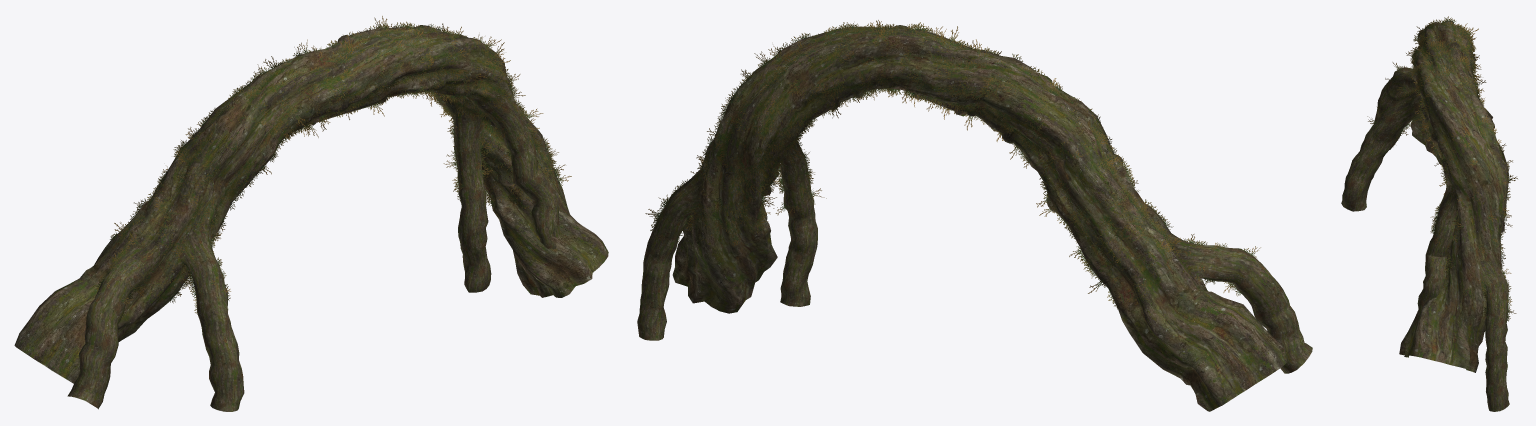
The model's file is Tree - Alien Dead trunk 01-DnVoLH4V.glb.
The picture shows the model from 3 angles, left to right: view 1: azimuth 30°, elevation 25°; view 2: azimuth 150°, elevation 25°; view 3: azimuth 270°, elevation 25°; orthographic projection. The views are drawn at different scales.
Visible parts, largest first — view 1: Dead _trunk_01(Clone), Dead _trunk_01_Moss(Clone); view 2: Dead _trunk_01(Clone), Dead _trunk_01_Moss(Clone); view 3: Dead _trunk_01(Clone), Dead _trunk_01_Moss(Clone).
Boxes of the visible parts, box(x1,y1,x2,y2) form: Dead _trunk_01(Clone): box(14, 25, 608, 411); Dead _trunk_01_Moss(Clone): box(93, 16, 571, 317); Dead _trunk_01(Clone): box(637, 25, 1312, 411); Dead _trunk_01_Moss(Clone): box(645, 20, 1260, 309); Dead _trunk_01(Clone): box(1341, 21, 1509, 411); Dead _trunk_01_Moss(Clone): box(1367, 16, 1517, 321).
Size of the model in its own units: 8.16 by 4.45 by 2.64.
2 materials, 2 textured.
